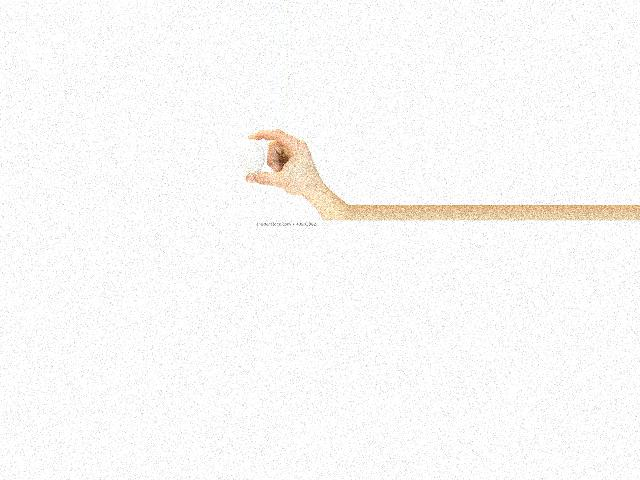egg: (240, 139, 265, 174)
